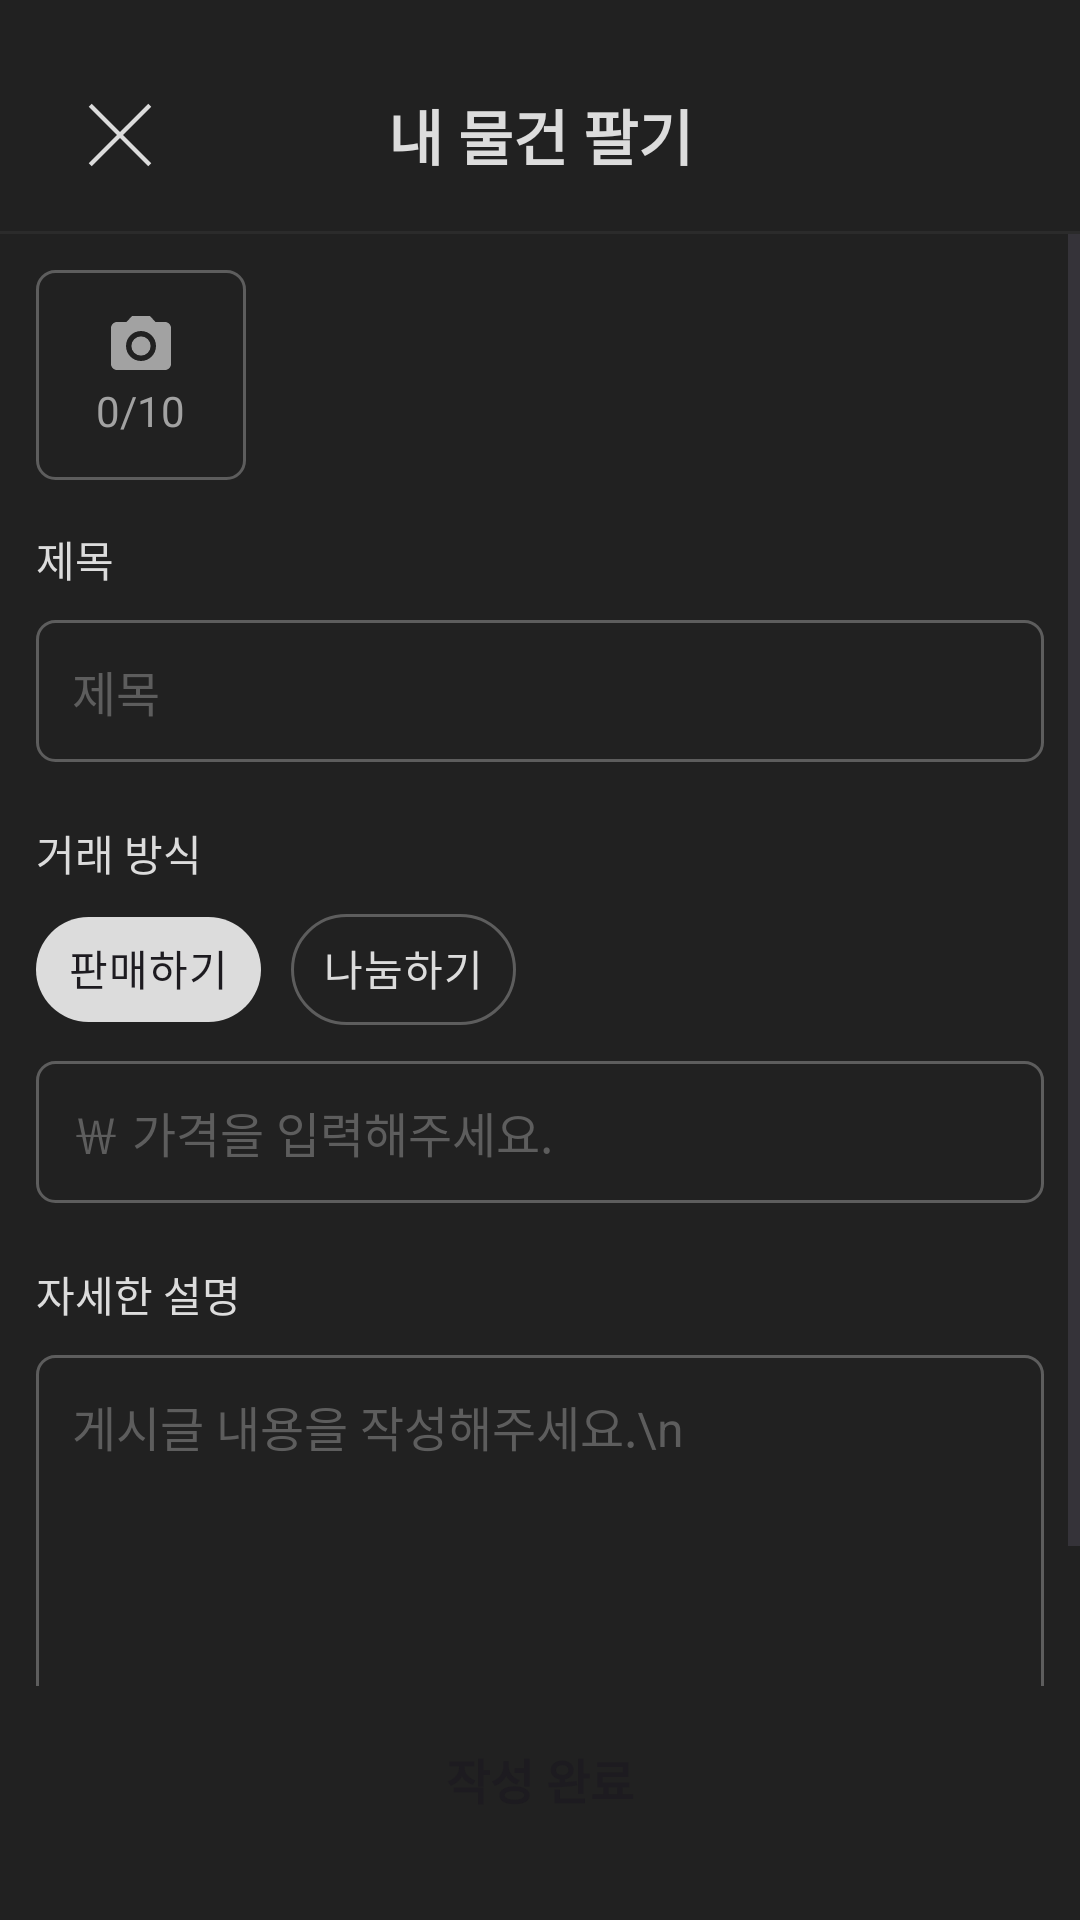

Screen size 1080 × 1920. Icon name, then its center in pixels as [x,y]:
camera: [141,343]
close: [120,135]
